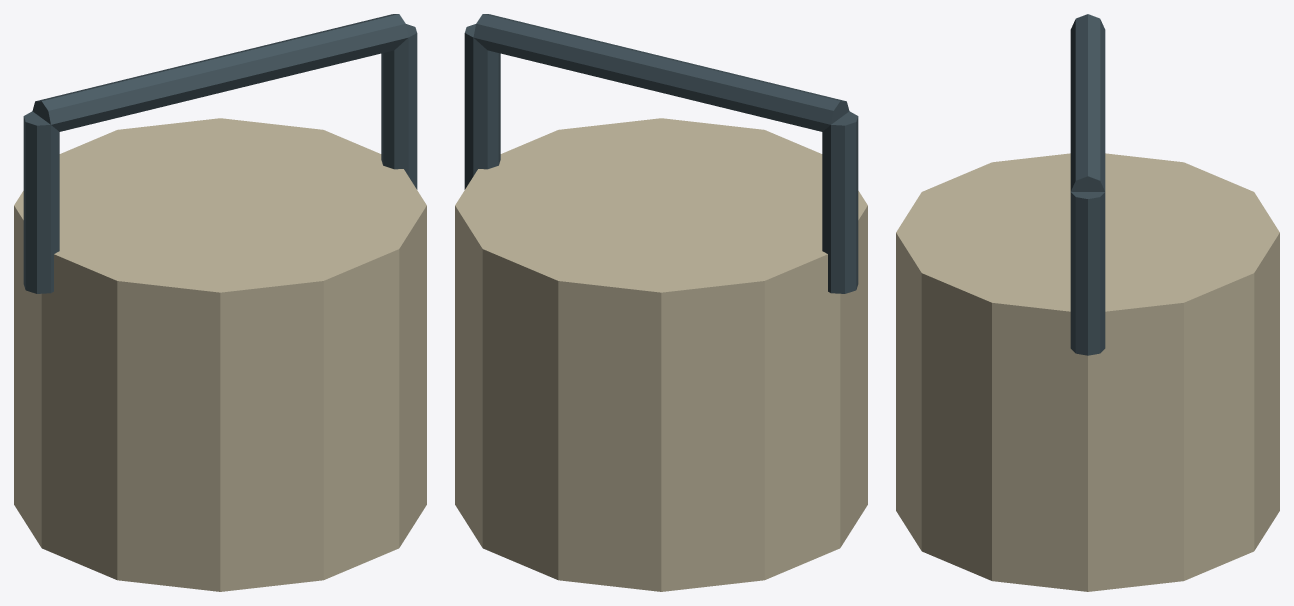
File: set_cleaning_caddy.glb
The picture shows the model from 3 angles, left to right: view 1: azimuth 30°, elevation 25°; view 2: azimuth 150°, elevation 25°; view 3: azimuth 270°, elevation 25°; orthographic projection. The views are drawn at different scales.
Parts seen in each view (by area): view 1: set_cleaning_caddy; view 2: set_cleaning_caddy; view 3: set_cleaning_caddy.
Boxes of the visible parts, x1,y1,x2,y2 form: set_cleaning_caddy: (14, 14, 426, 591); set_cleaning_caddy: (455, 14, 867, 591); set_cleaning_caddy: (896, 14, 1279, 591).
Size of the model in its own units: 0.218 by 0.239 by 0.2.
